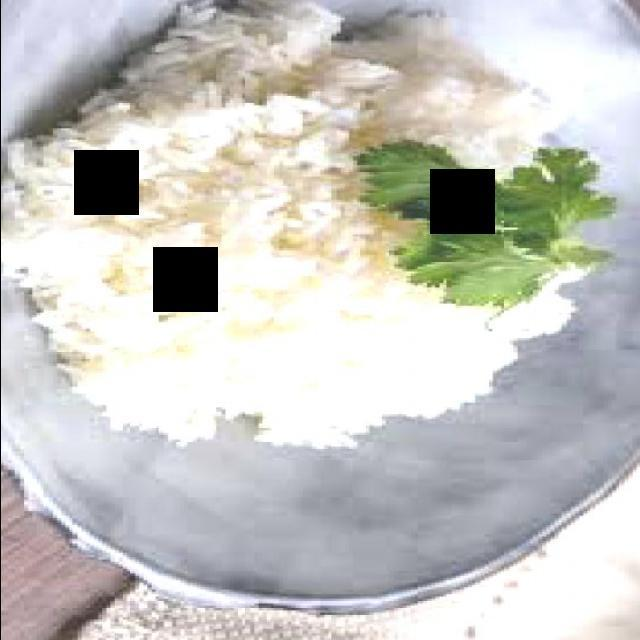rice: (0, 0, 593, 447)
